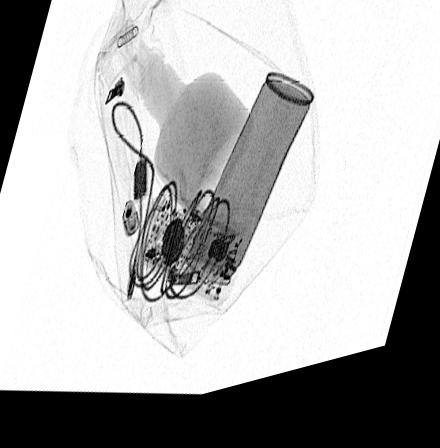Lighter: (122, 206, 139, 241)
